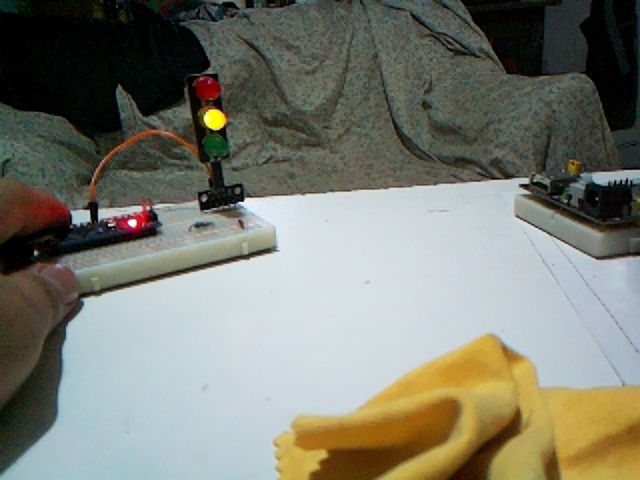traffic_light_yellow: (187, 72, 232, 162)
